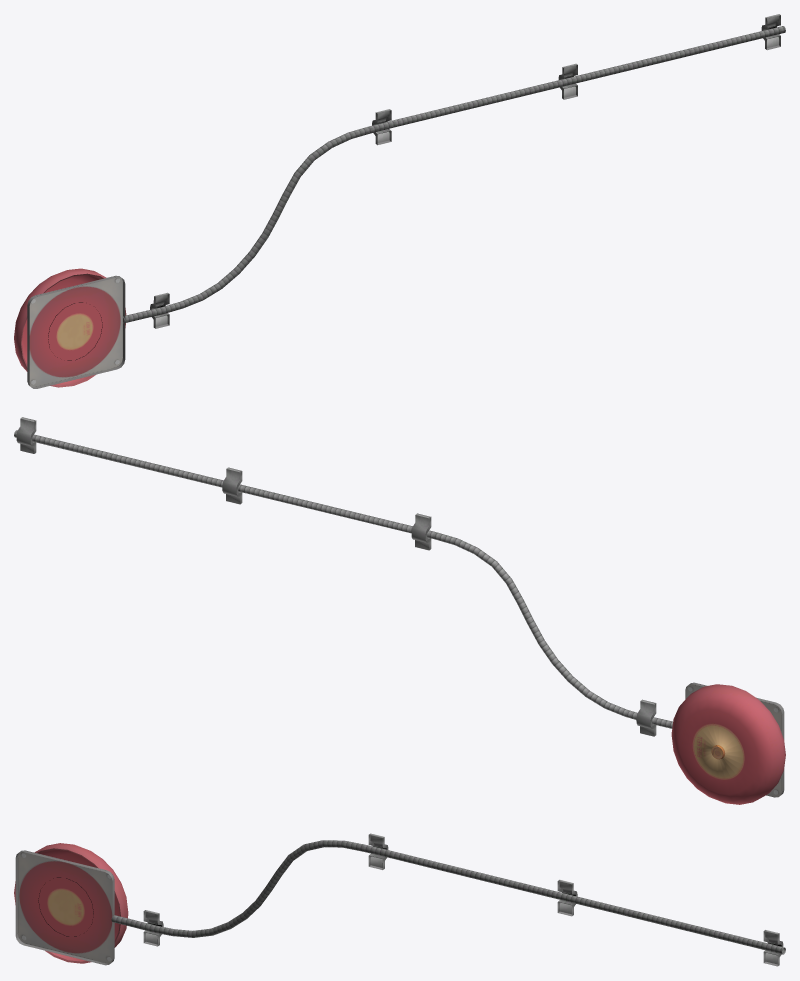
Rendered from props_spytech_fire_bell01.glb.
The picture shows the model from 3 angles, top to bottom: view 1: azimuth 30°, elevation 25°; view 2: azimuth 150°, elevation 25°; view 3: azimuth 330°, elevation 25°; orthographic projection.
Visible parts, largest first — view 1: models/props_spytech/fire_bell01; view 2: models/props_spytech/fire_bell01; view 3: models/props_spytech/fire_bell01.
Part boxes in pixels (x1,y1,x2,y2): models/props_spytech/fire_bell01: (14,14,785,388); models/props_spytech/fire_bell01: (14,417,785,804); models/props_spytech/fire_bell01: (14,833,785,966).
Bounding box in the file's own units: 185 × 46.94 × 7.74.
1 material, 1 textured.
